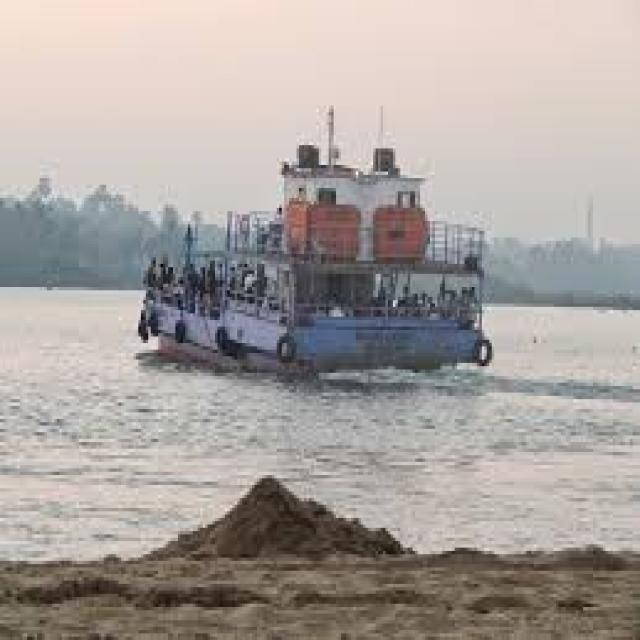houseboat: (129, 123, 492, 371)
